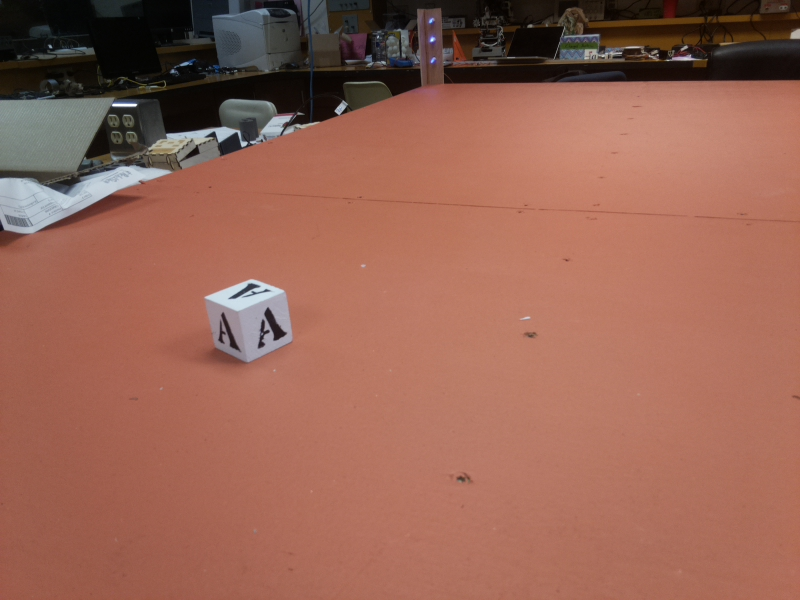blockA: (205, 278, 291, 365)
corner: (414, 11, 450, 85)
